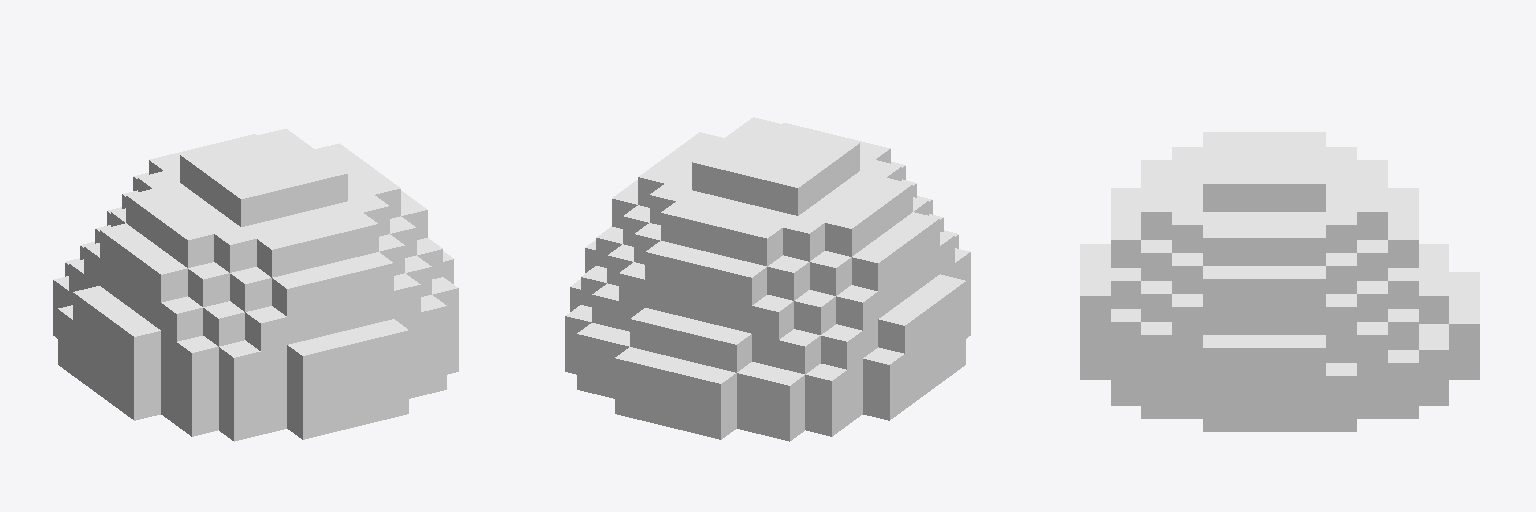
The model's file is slime.vox.obj.
3 renders of one model, left to right at view 1: azimuth 30°, elevation 25°; view 2: azimuth 150°, elevation 25°; view 3: azimuth 270°, elevation 25°, orthographic.
Parts seen in each view (by area): view 1: object 1; view 2: object 1; view 3: object 1.
Part boxes in pixels (x1,y1,x2,y2): object 1: (53,129,458,441); object 1: (565,117,970,441); object 1: (1080,132,1479,431).
Bounding box in the file's own units: 1.2 × 0.7 × 1.3.